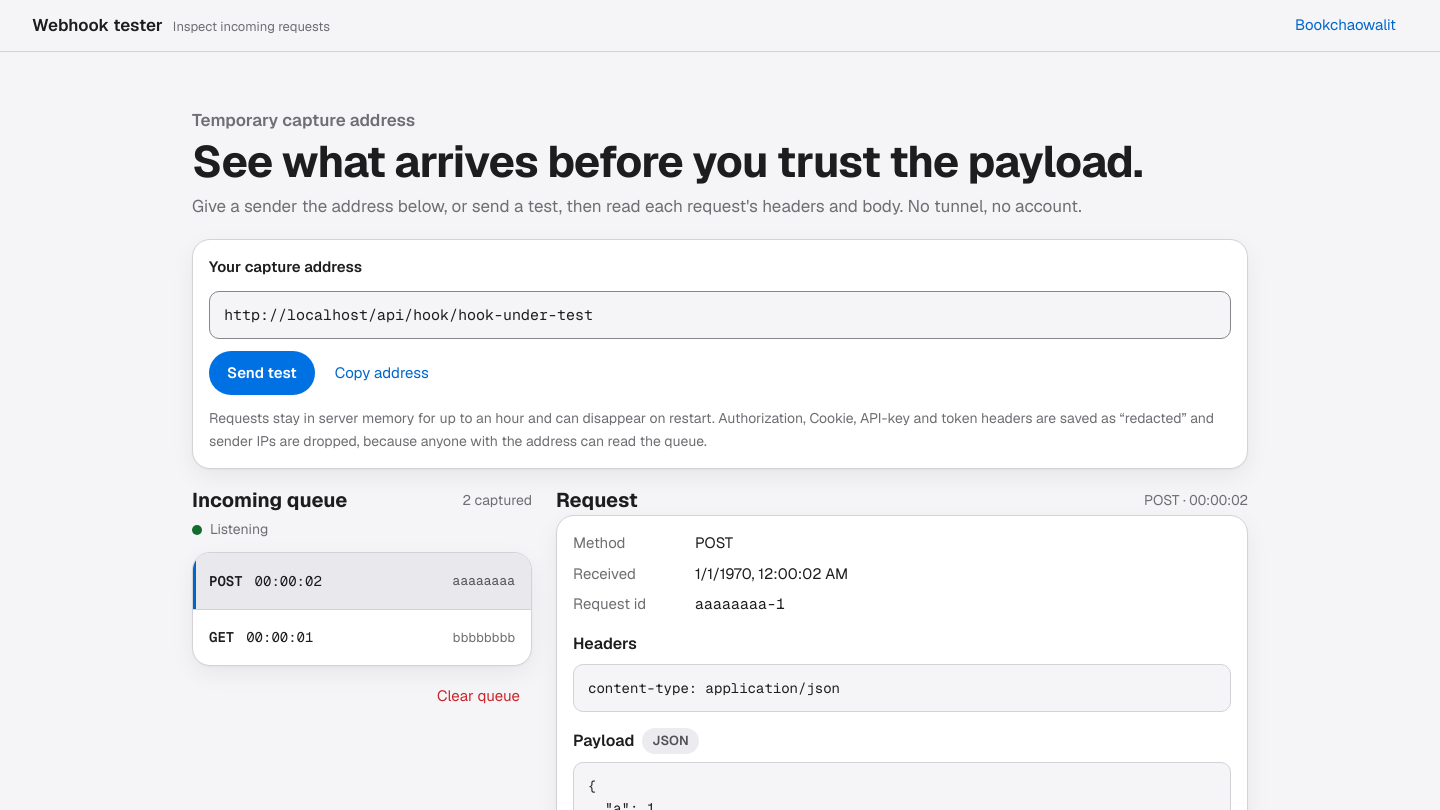
batch Undo › consecutive clears restore together with one Undo
This screenshot has width=1440, height=810.
Click the button "Clear queue". click: {"x": 478, "y": 696}
box: x1=425 y1=674 x2=532 y2=718
Wait 2500 ms
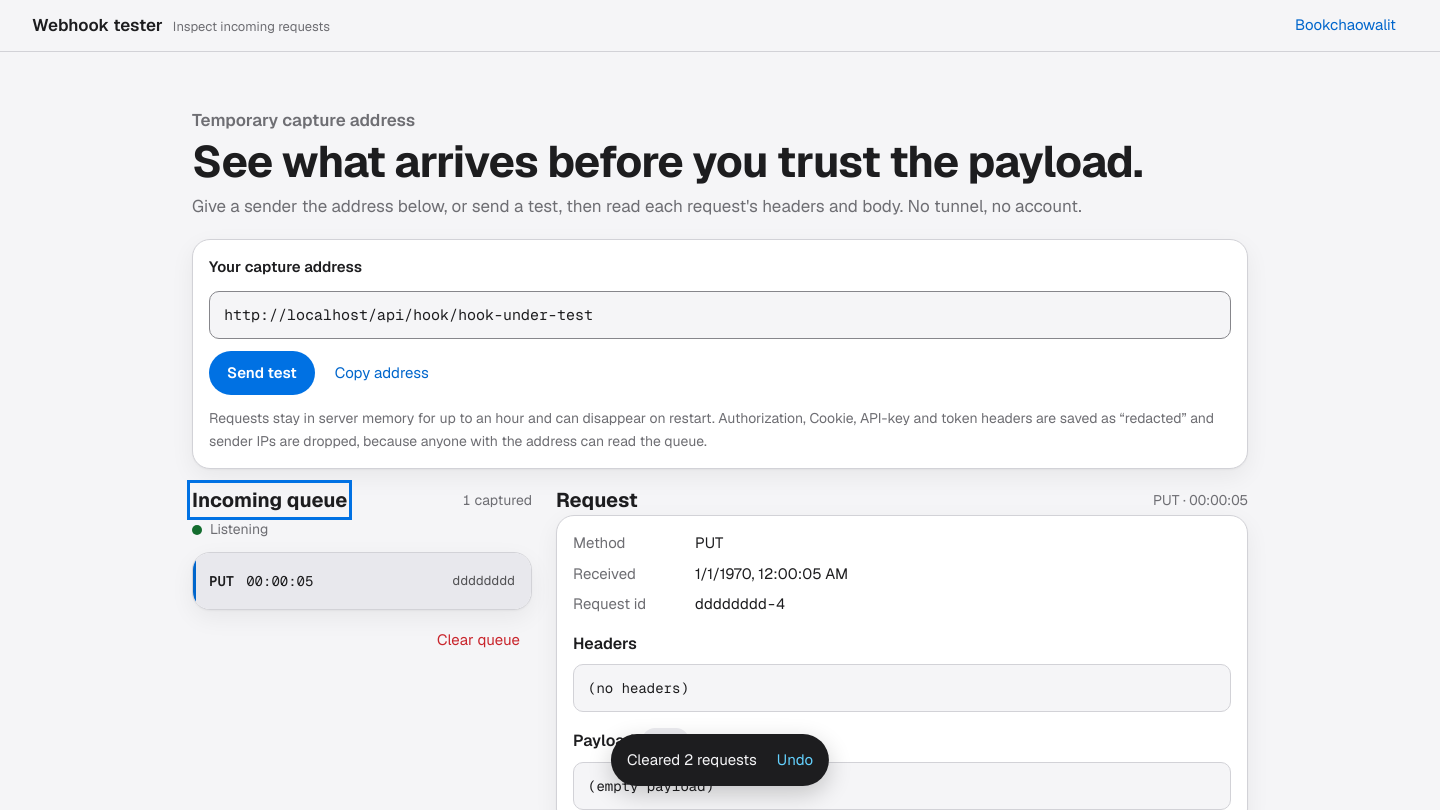
Expected: the number of buttons with class "wh-req" is 1, x1=193 y1=553 x2=531 y2=609
Click the button "Clear queue". click: {"x": 478, "y": 640}
box: x1=425 y1=618 x2=532 y2=662
Wait 4000 ms
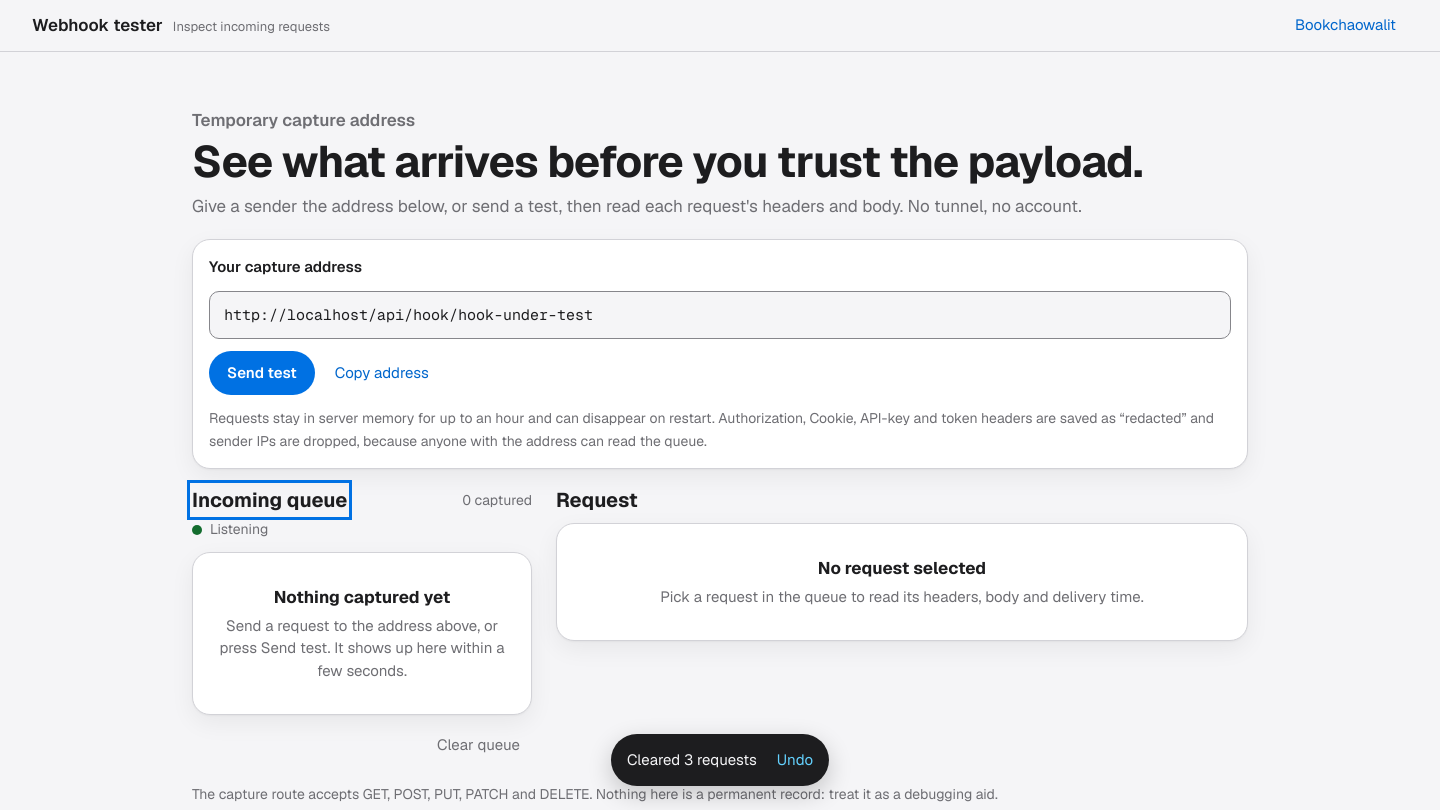
Expected: no buttons with class "wh-req" are shown
Expected: the text "Cleared 3 requests" is shown, x1=627 y1=749 x2=757 y2=771
Click the button "Undo". click: {"x": 795, "y": 760}
box: x1=765 y1=738 x2=825 y2=782
Wait 6000 ms
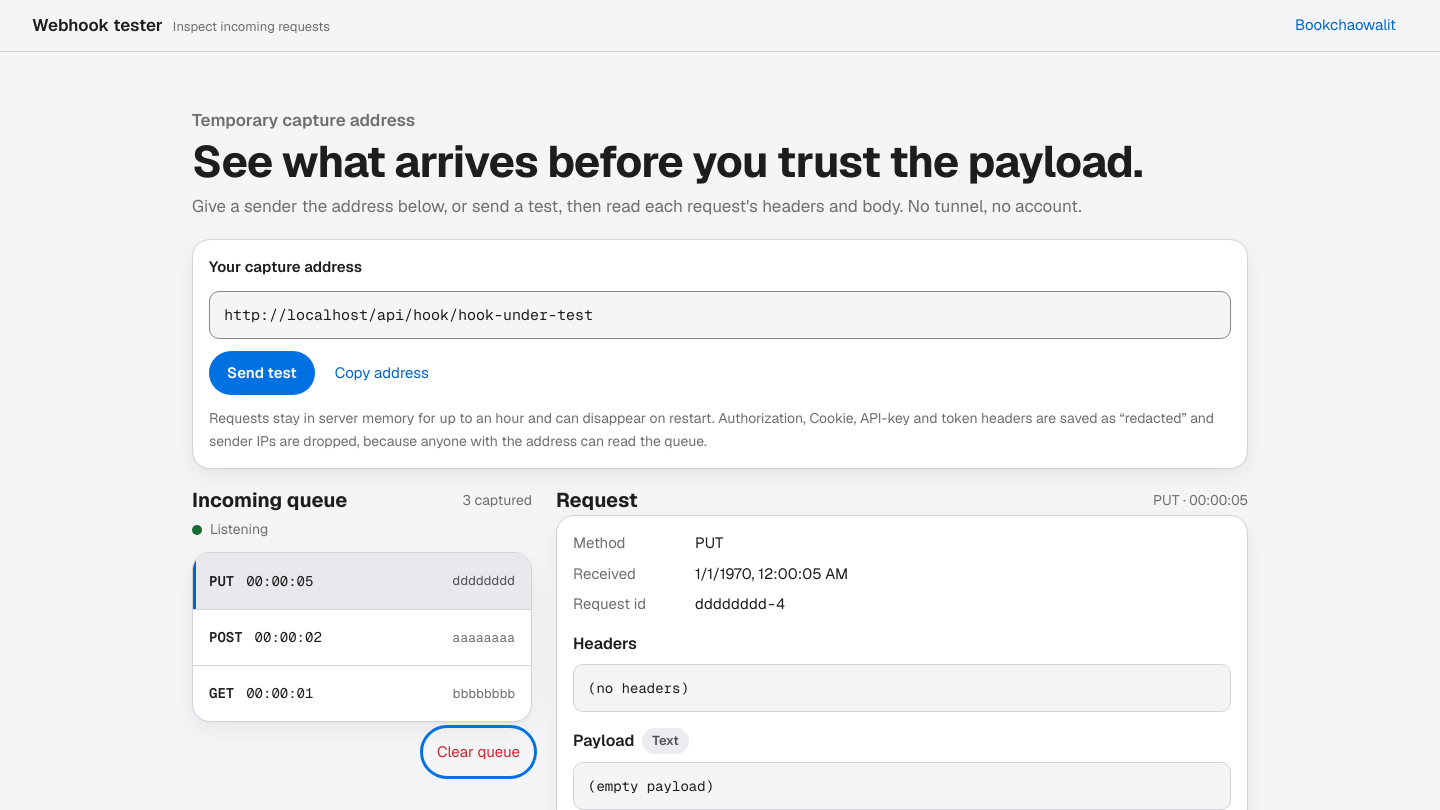
Expected: the number of buttons with class "wh-req" is 3, x1=193 y1=553 x2=531 y2=609; x1=193 y1=609 x2=531 y2=665; x1=193 y1=665 x2=531 y2=721
